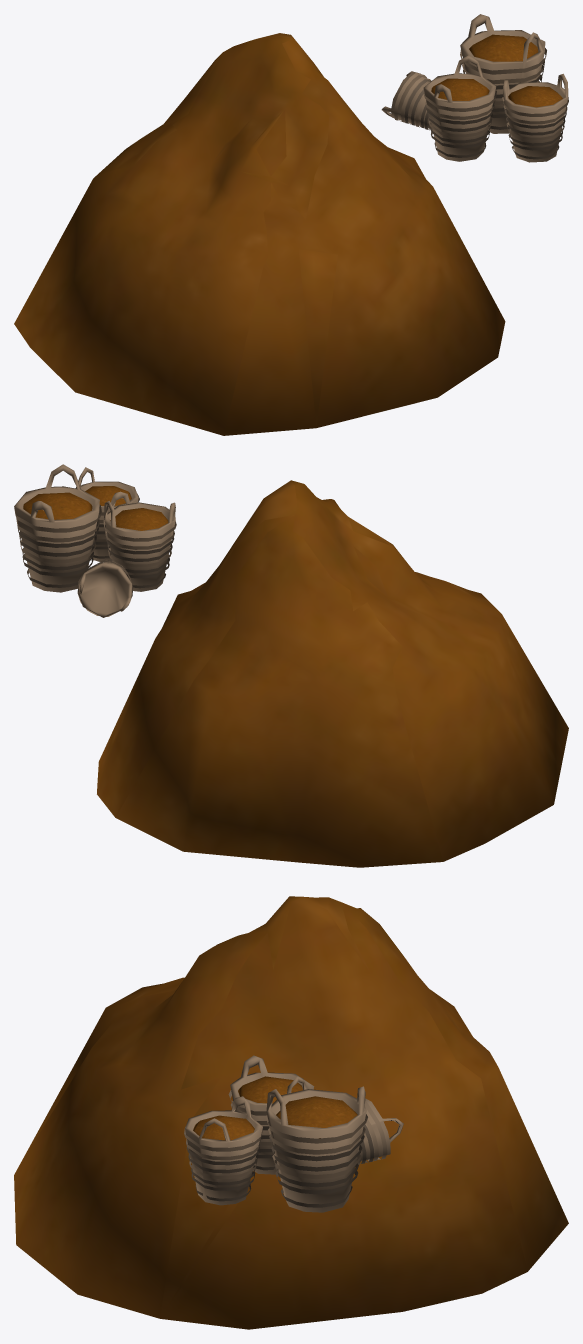
The model's file is DungHeap2.fbx.
3 renders of one model, top to bottom at view 1: azimuth 30°, elevation 25°; view 2: azimuth 150°, elevation 25°; view 3: azimuth 270°, elevation 25°, orthographic. The views are drawn at different scales.
Parts seen in each view (by area): view 1: DungHeap, Basket.002, Basket.005, Basket.003, Basket.004; view 2: DungHeap, Basket.005, Basket.002, Basket.004, Basket.003; view 3: DungHeap, Basket.005, Basket.003, Basket.002, Basket.004.
Part boxes in pixels (x1,y1,x2,y2): DungHeap: (14,33,505,435); Basket.002: (423,55,496,161); Basket.005: (460,14,546,133); Basket.003: (502,73,568,162); Basket.004: (381,71,431,130); DungHeap: (97,480,568,867); Basket.005: (14,464,101,592); Basket.002: (103,501,176,591); Basket.004: (77,559,133,617); Basket.003: (75,467,139,561); DungHeap: (14,896,568,1329); Basket.005: (265,1086,367,1212); Basket.003: (184,1096,262,1205); Basket.002: (228,1055,314,1174); Basket.004: (356,1098,403,1164).
Size of the model in its own units: 518 by 338 by 630.
